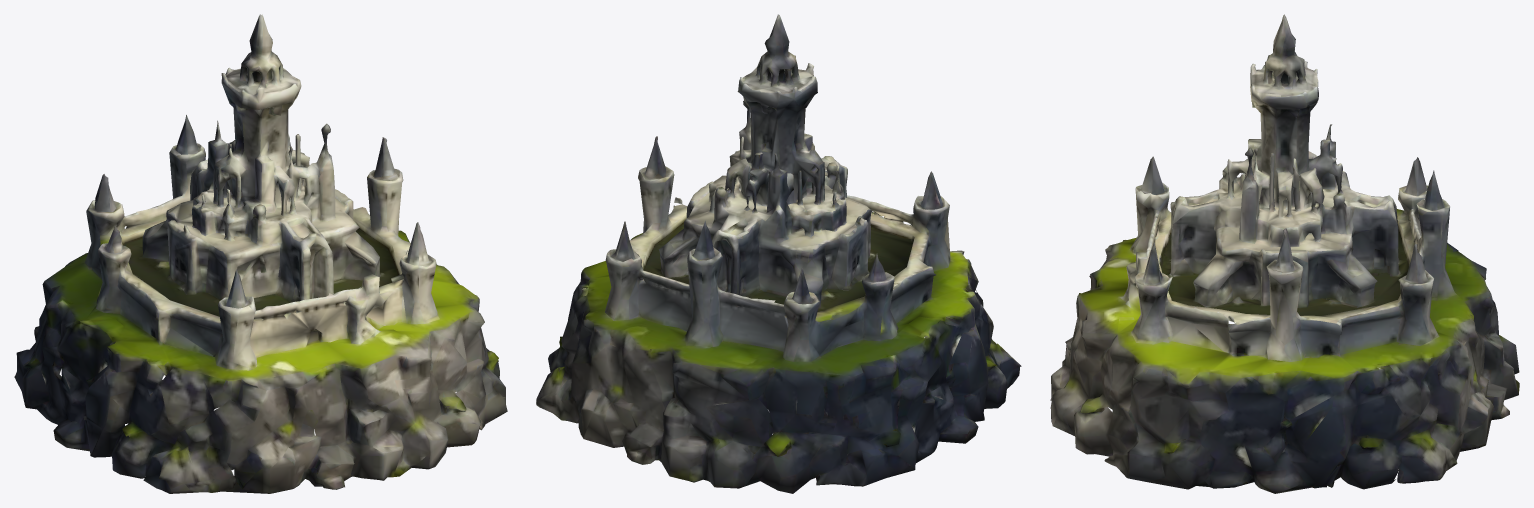
The model's file is royalcastle.glb.
3 renders of one model, left to right at view 1: azimuth 30°, elevation 25°; view 2: azimuth 150°, elevation 25°; view 3: azimuth 270°, elevation 25°, orthographic.
Visible parts, largest first — view 1: tripo_node_9731af22; view 2: tripo_node_9731af22; view 3: tripo_node_9731af22.
Part boxes in pixels (left/top/right/bottom): tripo_node_9731af22: left=14, top=14, right=507, bottom=493; tripo_node_9731af22: left=536, top=14, right=1021, bottom=493; tripo_node_9731af22: left=1050, top=14, right=1519, bottom=493.
Bounding box in the file's own units: 98.03 × 90.37 × 99.35.
1 material, 1 textured.
